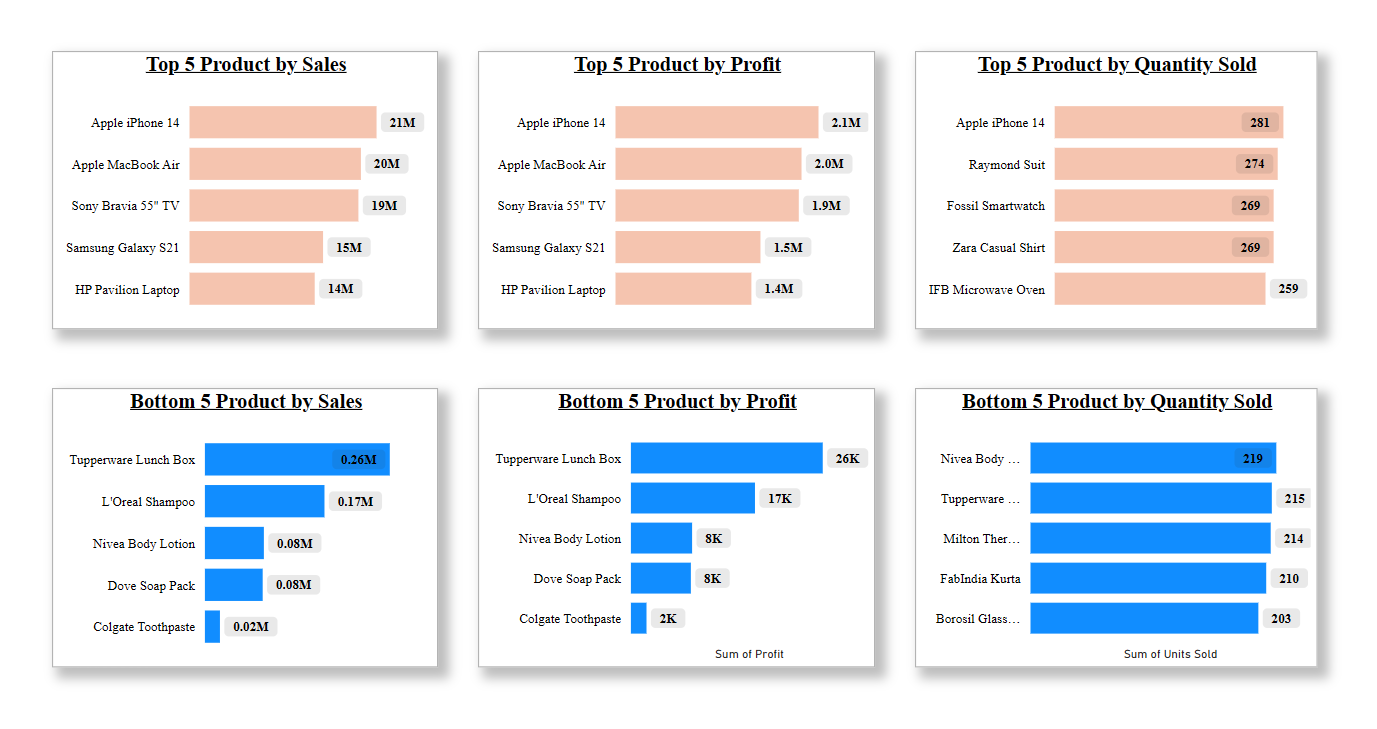

Layout of this report page (visuals, bound fields, positions):
{"tool":"powerbi","page":{"name":"Top/Bottom 5 Analysis","canvas":[1280,720],"ordinal":1},"visuals":[{"type":"barChart","title":"Top 5 Product by Sales","fields":{"Category":["Dim Product.Product Name"],"Y":["Sum(Fact Table.Net Sales)"]},"box":[63.2,79.8,351.1,252.9],"z":1000},{"type":"barChart","title":"Bottom 5 Product by Sales","fields":{"Category":["Dim Product.Product Name"],"Y":["Sum(Fact Table.Net Sales)"]},"box":[63.2,386.1,351.1,253.9],"z":2000},{"type":"barChart","title":"Top 5 Product by Profit","fields":{"Category":["Dim Product.Product Name"],"Y":["Sum(Fact Table.Profit)"]},"box":[450.8,79.8,360.9,252.9],"z":3000},{"type":"barChart","title":"Bottom 5 Product by Profit","fields":{"Category":["Dim Product.Product Name"],"Y":["Sum(Fact Table.Profit)"]},"box":[450.8,386.1,360.9,253.9],"z":4000},{"type":"barChart","title":"Top 5 Product by Quantity Sold","fields":{"Category":["Dim Product.Product Name"],"Y":["Sum(Fact Table.Units Sold)"]},"box":[848.1,79.8,365.7,252.9],"z":5000},{"type":"barChart","title":"Bottom 5 Product by Quantity Sold","fields":{"Category":["Dim Product.Product Name"],"Y":["Sum(Fact Table.Units Sold)"]},"box":[848.1,386.1,365.7,253.9],"z":6000}]}

Visuals, with their boxes on the page's 1280x720 design canvas (x1, y1, x2, y2). These are canvas units, not pixel positions in the 1377x729 screenshot, which may show the page scaled, cropped or inside an application window:
"Top 5 Product by Sales" barChart: (x1=63, y1=80, x2=414, y2=333)
"Bottom 5 Product by Sales" barChart: (x1=63, y1=386, x2=414, y2=640)
"Top 5 Product by Profit" barChart: (x1=451, y1=80, x2=812, y2=333)
"Bottom 5 Product by Profit" barChart: (x1=451, y1=386, x2=812, y2=640)
"Top 5 Product by Quantity Sold" barChart: (x1=848, y1=80, x2=1214, y2=333)
"Bottom 5 Product by Quantity Sold" barChart: (x1=848, y1=386, x2=1214, y2=640)
